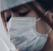with_mask: (1, 1, 53, 51)
